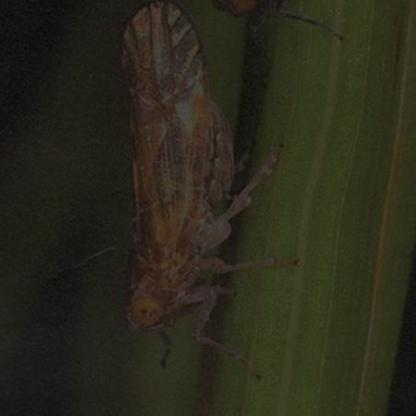brown-planthopper: (116, 5, 233, 334)
